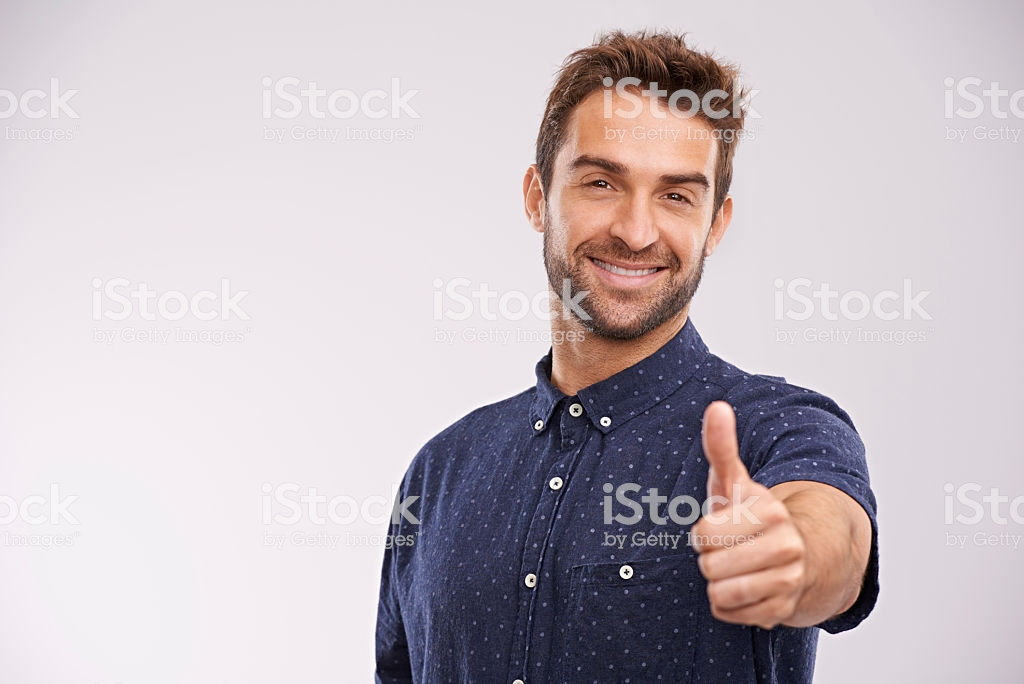thumbsup: (690, 399, 808, 631)
